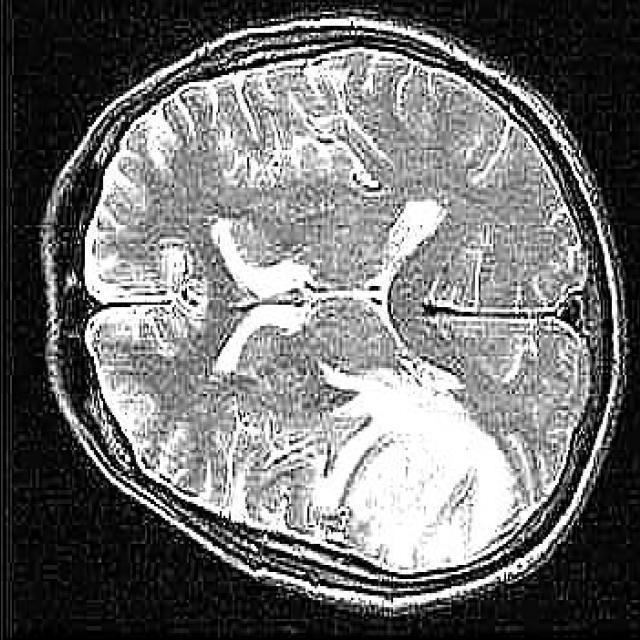tumor: (314, 370, 534, 572)
